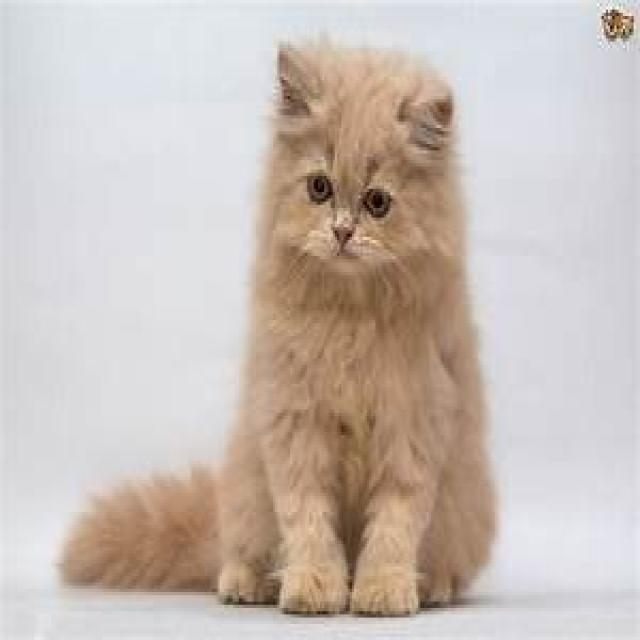animal: (56, 45, 498, 614)
